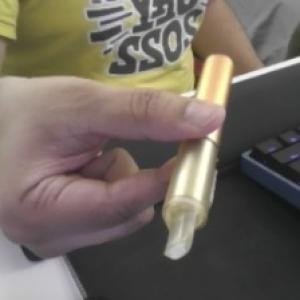Golden-E-Ciggirate: (161, 54, 236, 262)
